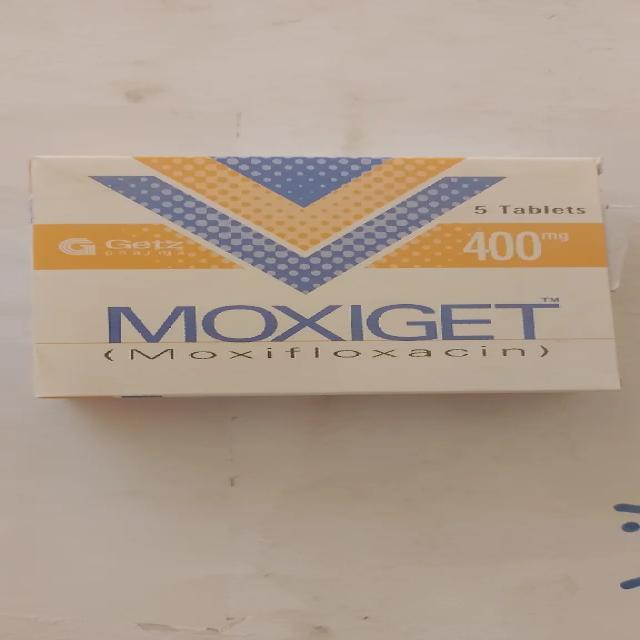drug-name: (100, 302, 562, 341)
